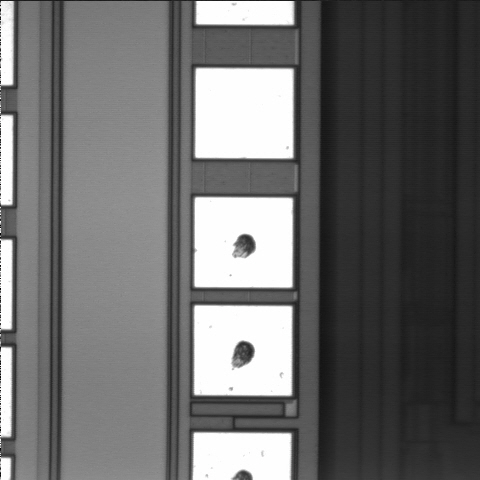pad: (194, 197, 293, 288), (195, 68, 293, 158), (194, 306, 292, 396)
